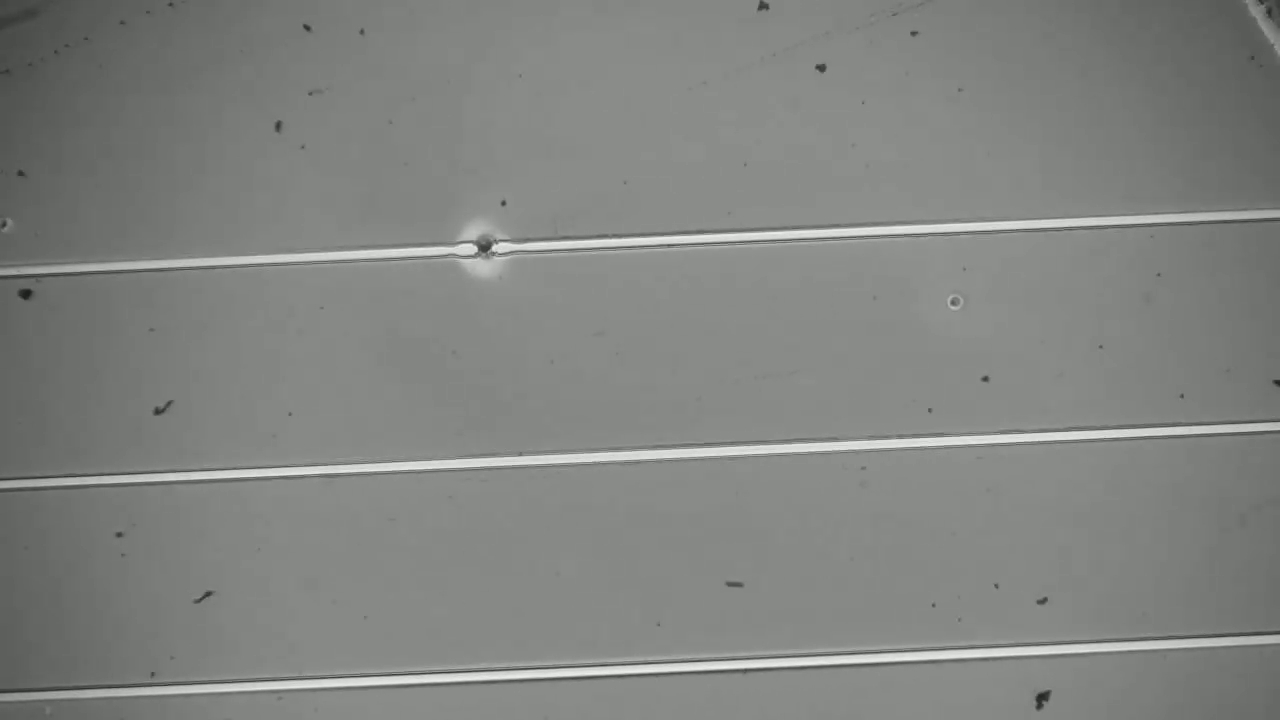stains_enbedded: (457, 223, 511, 272)
